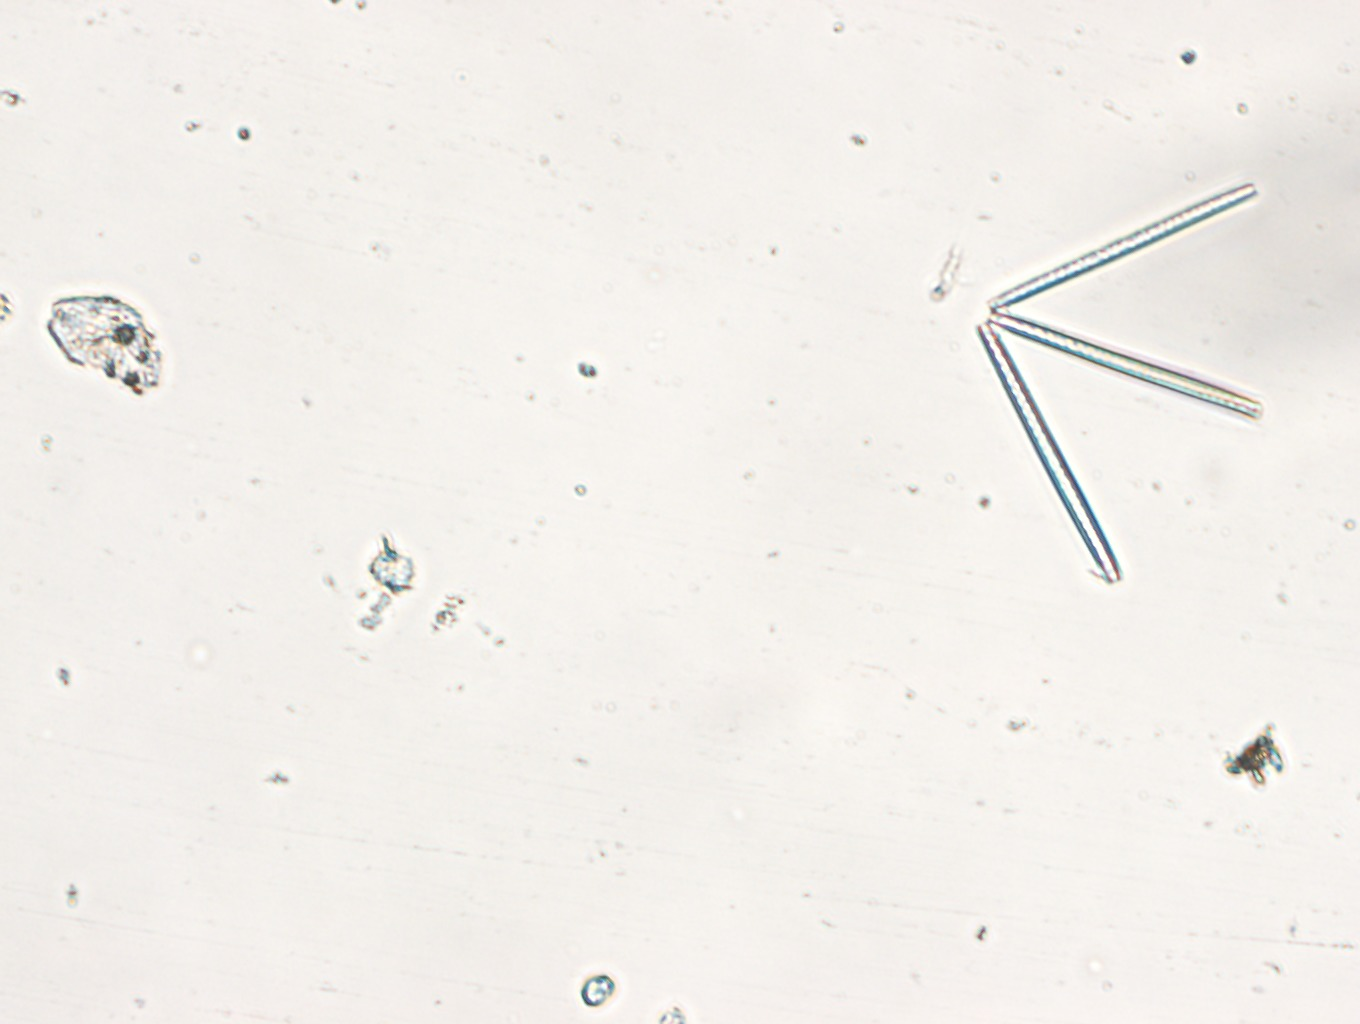thalassionema frauenfeldii: (967, 163, 1269, 605)
